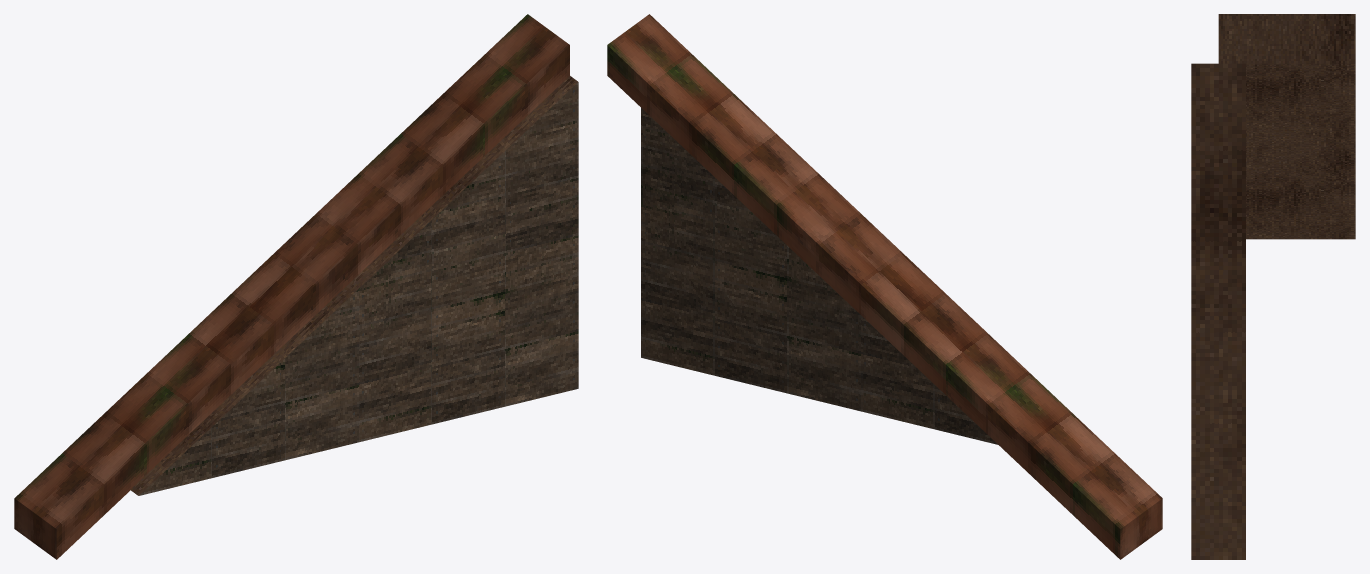
Rendered from roof_02_L.glb.
The picture shows the model from 3 angles, left to right: view 1: azimuth 30°, elevation 25°; view 2: azimuth 150°, elevation 25°; view 3: azimuth 270°, elevation 25°; orthographic projection. The views are drawn at different scales.
Parts seen in each view (by area): view 1: roof_02_L2; view 2: roof_02_L2; view 3: roof_02_L2.
Part boxes in pixels (left/top/right/bottom): roof_02_L2: left=14, top=14, right=578, bottom=559; roof_02_L2: left=607, top=14, right=1162, bottom=559; roof_02_L2: left=1191, top=14, right=1355, bottom=559.
Size of the model in its own units: 3.5 by 2.54 by 0.6.
1 material, 1 textured.
